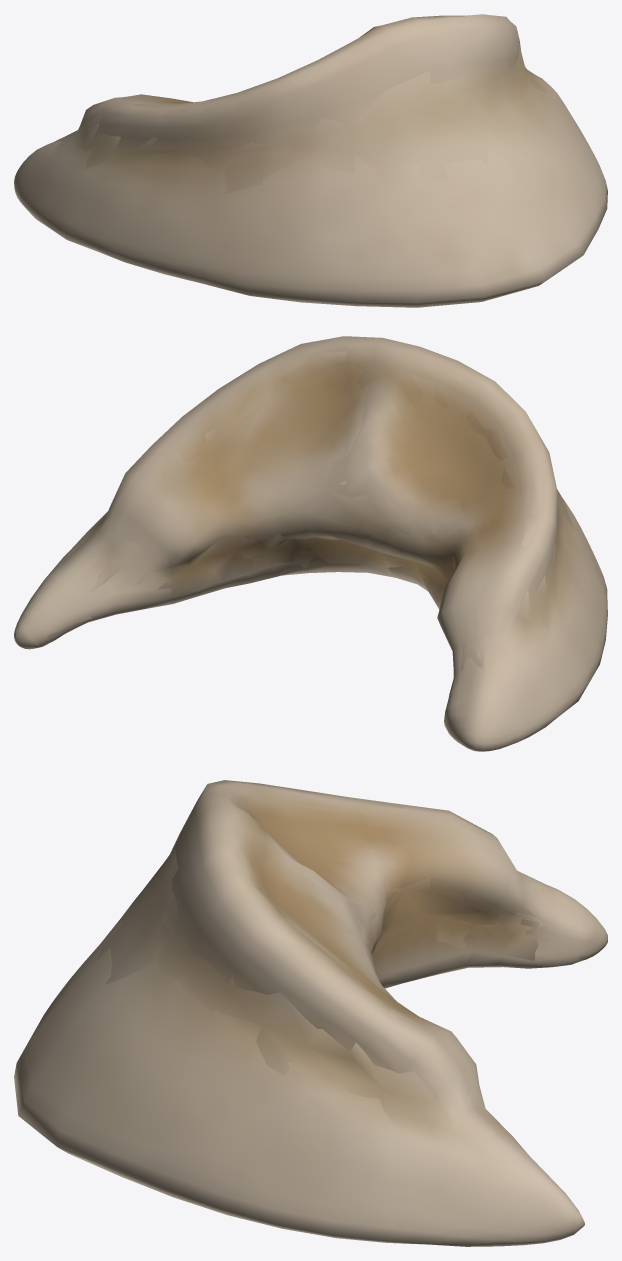
Rendered from BL 3rd Phalanx.fbx.
3 views of the same model, one above another, from view 1: azimuth 30°, elevation 25°; view 2: azimuth 150°, elevation 25°; view 3: azimuth 270°, elevation 25° (orthographic). The views are drawn at different scales.
Visible parts, largest first — view 1: BL 3rd Phalanx, BL 3rd Phalanx low; view 2: BL 3rd Phalanx, BL 3rd Phalanx low; view 3: BL 3rd Phalanx, BL 3rd Phalanx low.
Part boxes in pixels (<box>): BL 3rd Phalanx: <box>14,14,607,307</box>; BL 3rd Phalanx low: <box>52,18,546,193</box>; BL 3rd Phalanx: <box>14,336,607,751</box>; BL 3rd Phalanx low: <box>46,342,574,702</box>; BL 3rd Phalanx: <box>14,780,607,1246</box>; BL 3rd Phalanx low: <box>97,788,576,1172</box>.
Bounding box in the file's own units: 9.54 × 4.35 × 7.98.
Materials: 1 (1 with a texture image).
